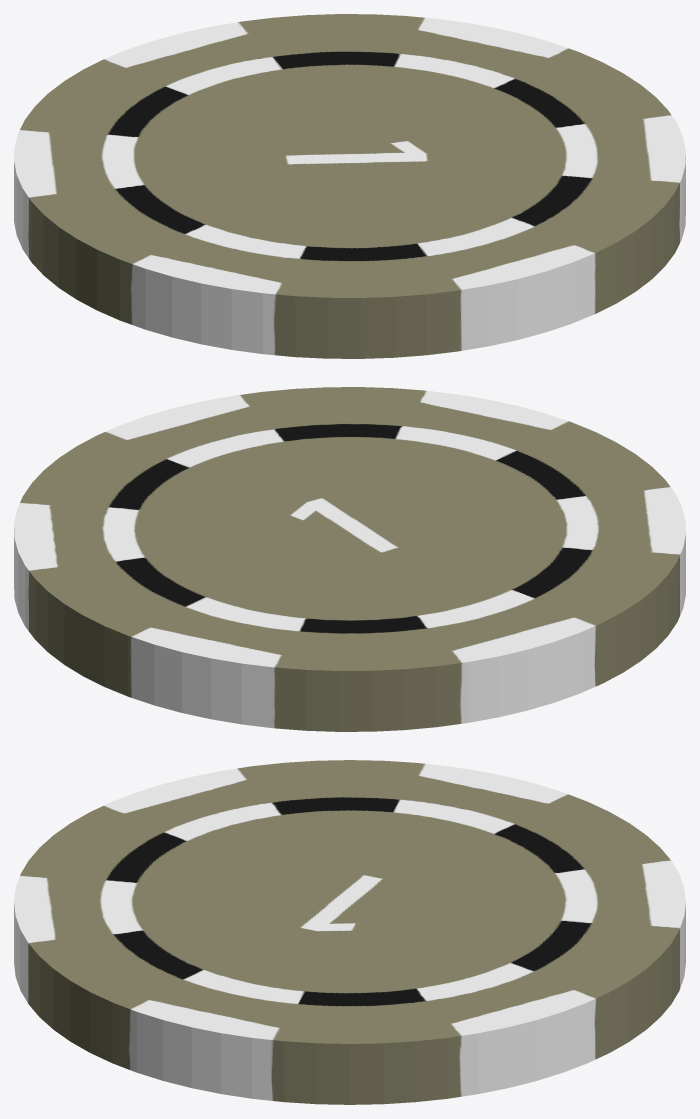
3 renders of one model, top to bottom at view 1: azimuth 30°, elevation 25°; view 2: azimuth 150°, elevation 25°; view 3: azimuth 270°, elevation 25°, orthographic.
Visible parts, largest first — view 1: Cylinder; view 2: Cylinder; view 3: Cylinder.
Boxes of the visible parts, x1=… form: Cylinder: x1=14, y1=14, x2=685, y2=358; Cylinder: x1=14, y1=387, x2=685, y2=731; Cylinder: x1=14, y1=760, x2=685, y2=1104.
Bounding box in the file's own units: 0.04 × 0.004 × 0.04.
Materials: 1 (1 with a texture image).
